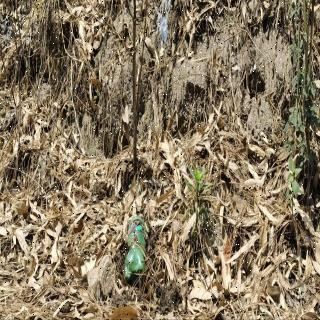Plastic-bottle: (125, 213, 149, 286)
